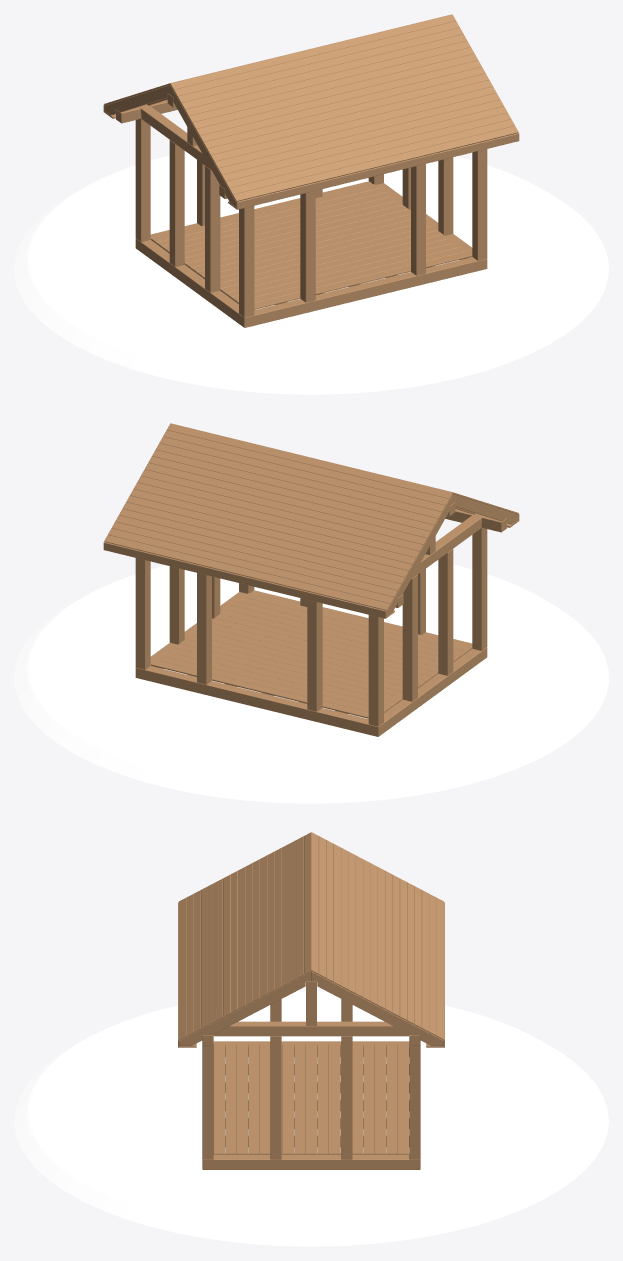
The model's file is gazebo.glb.
The picture shows the model from 3 angles, top to bottom: view 1: azimuth 30°, elevation 25°; view 2: azimuth 150°, elevation 25°; view 3: azimuth 270°, elevation 25°; orthographic projection.
Visible parts, largest first — view 1: Circle_25, object 21, object 12, object 15, object 4, object 16, object 7, object 14, object 8, object 19, object 5, object 20 (+5 smaller); view 2: Circle_25, object 21, object 12, object 15, object 4, object 16, object 8, object 20, object 7, object 13, object 1, object 14 (+5 smaller); view 3: Circle_25, object 21, object 12, object 16, object 23, object 18, object 9, object 11, object 13, object 19, object 10.
Boxes of the visible parts, x1,y1,x2,y2 form: Circle_25: (14, 152, 608, 394); object 21: (104, 14, 518, 201); object 12: (151, 184, 471, 309); object 15: (150, 181, 487, 327); object 4: (103, 105, 519, 209); object 16: (135, 183, 472, 327); object 7: (169, 140, 184, 266); object 14: (135, 119, 150, 241); object 8: (205, 166, 220, 292); object 19: (472, 149, 487, 260); object 5: (300, 191, 315, 302); object 20: (239, 206, 254, 317); Circle_25: (14, 561, 608, 803); object 21: (104, 423, 518, 610); object 12: (151, 593, 471, 718); object 15: (135, 590, 472, 736); object 4: (103, 514, 519, 618); object 16: (150, 592, 487, 736); object 8: (438, 549, 453, 675); object 20: (472, 528, 487, 650); object 7: (402, 575, 417, 701); object 13: (135, 558, 150, 669); object 1: (307, 600, 322, 711); object 14: (368, 615, 383, 726); Circle_25: (14, 991, 608, 1246); object 21: (179, 832, 443, 1039); object 12: (213, 1044, 408, 1154); object 16: (202, 1041, 420, 1169); object 23: (179, 971, 443, 1045); object 18: (213, 1021, 409, 1036); object 9: (341, 1036, 352, 1159); object 11: (270, 1036, 281, 1159); object 13: (409, 1046, 420, 1159); object 19: (202, 1046, 213, 1159); object 10: (214, 1046, 409, 1154).
Bounding box in the file's own units: 10.5 × 4.28 × 10.5.
